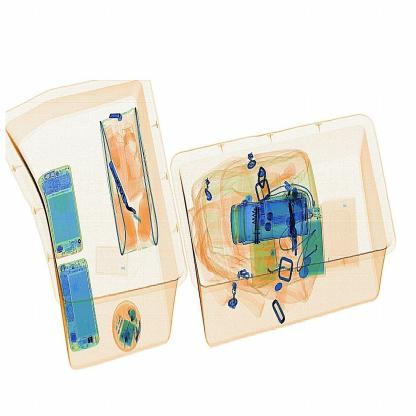scissors: (249, 198, 270, 249)
